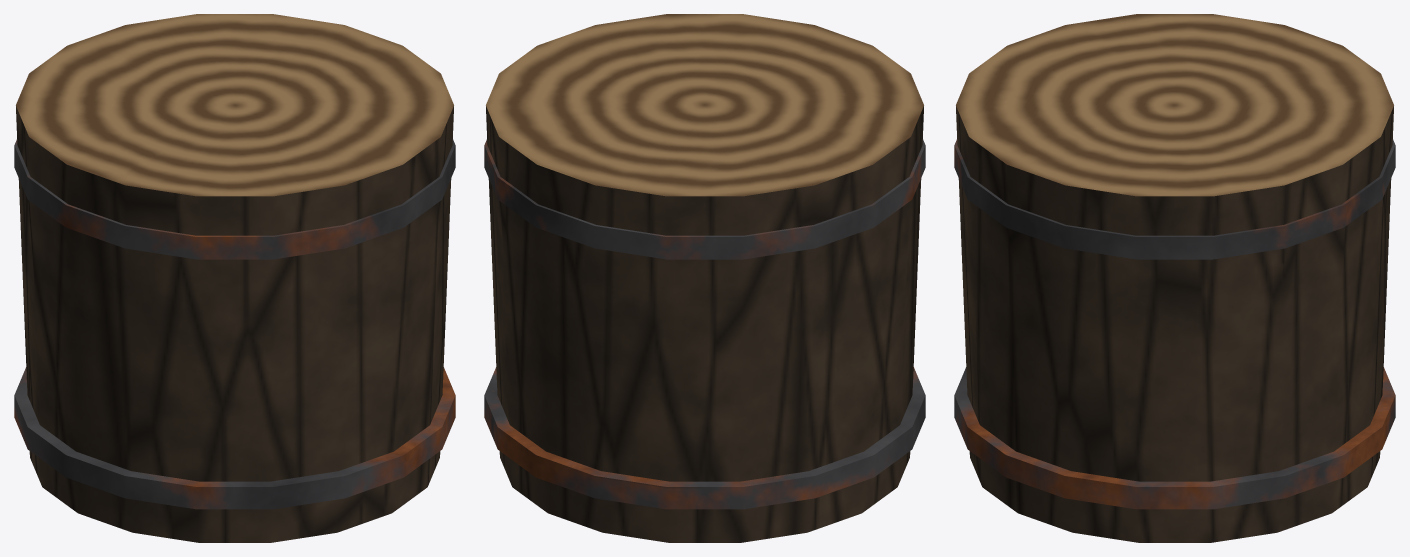
Rendered from SM_Stump.glb.
3 renders of one model, left to right at view 1: azimuth 30°, elevation 25°; view 2: azimuth 150°, elevation 25°; view 3: azimuth 270°, elevation 25°, orthographic.
Visible parts, largest first — view 1: SM_Stump; view 2: SM_Stump; view 3: SM_Stump.
Boxes of the visible parts, <box> form: SM_Stump: <box>14,14,455,542</box>; SM_Stump: <box>484,14,925,542</box>; SM_Stump: <box>954,14,1395,542</box>.
Size of the model in its own units: 0.6145 by 0.55 by 0.624.
Materials: 1 (1 with a texture image).
